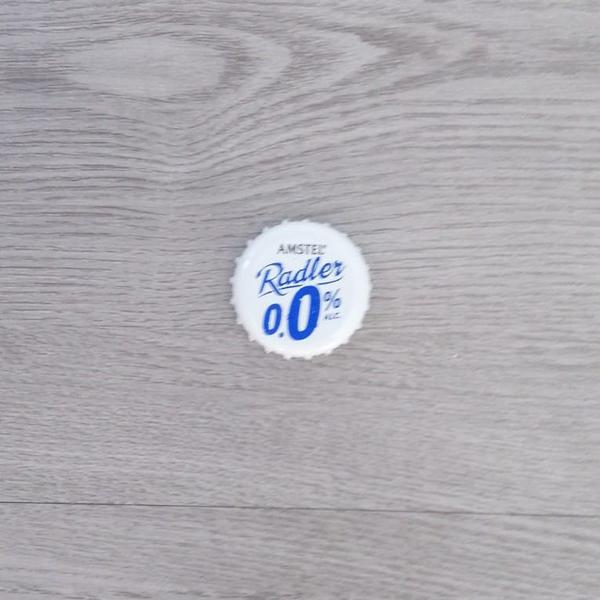amstelradler0.0: (225, 212, 376, 362)
